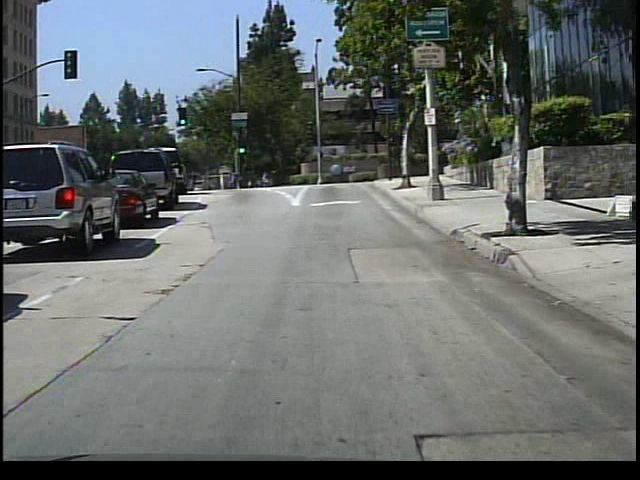person: (257, 166, 273, 191), (227, 166, 242, 191)
